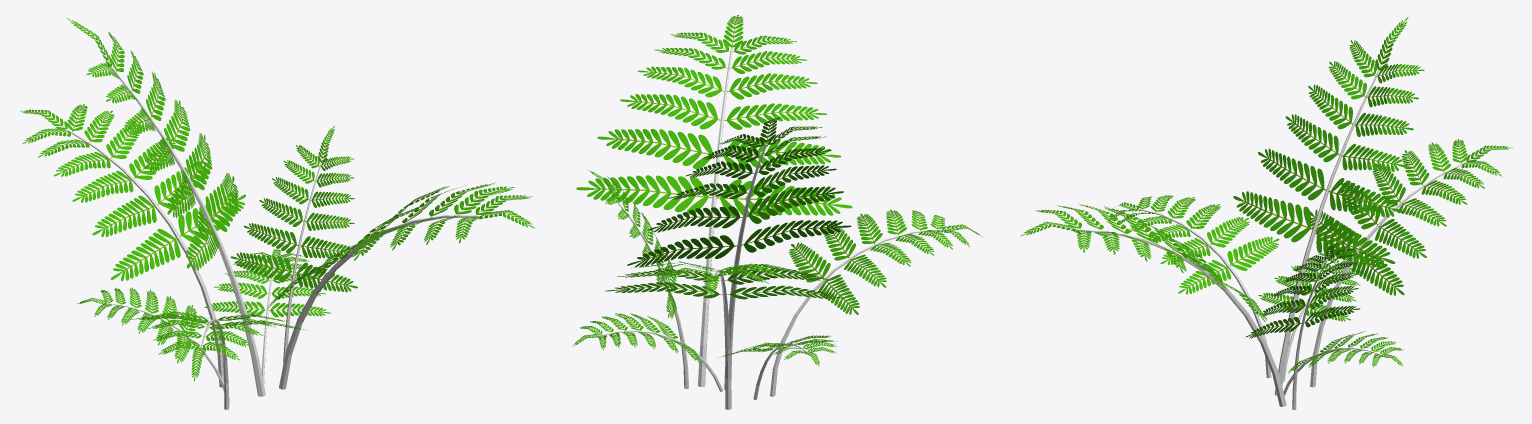
File: Plant4_2.fbx
3 renders of one model, left to right at view 1: azimuth 30°, elevation 25°; view 2: azimuth 150°, elevation 25°; view 3: azimuth 270°, elevation 25°, orthographic. The views are drawn at different scales.
Parts seen in each view (by area): view 1: Plant4_2; view 2: Plant4_2; view 3: Plant4_2.
Boxes of the visible parts, box(x1,y1,x2,y2) form: Plant4_2: box(20, 18, 534, 409); Plant4_2: box(572, 15, 982, 409); Plant4_2: box(1020, 17, 1512, 409).
Bounding box in the file's own units: 280 × 280 × 393.
